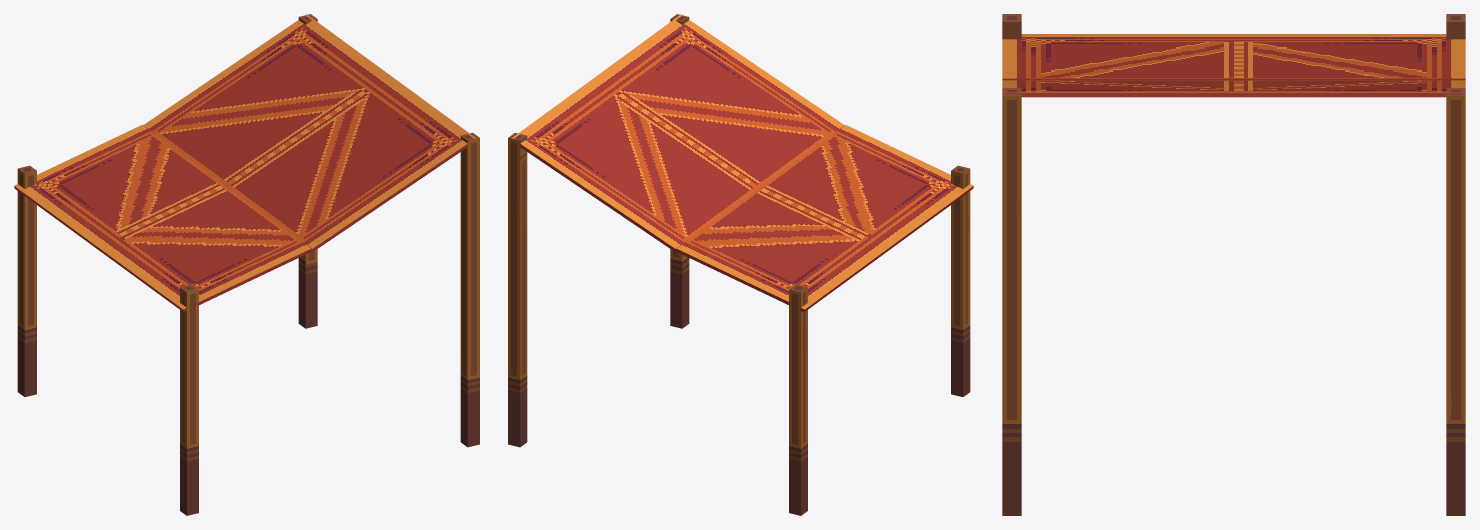
The model's file is hautvent.gltf.
3 renders of one model, left to right at view 1: azimuth 30°, elevation 25°; view 2: azimuth 150°, elevation 25°; view 3: azimuth 270°, elevation 25°, orthographic. The views are drawn at different scales.
Visible parts, largest first — view 1: cube (×6); view 2: cube (×6); view 3: cube (×4).
Part boxes in pixels (x1,y1,x2,y2): cube (×6): (14, 14, 479, 515); cube (×6): (508, 14, 973, 515); cube (×4): (1002, 34, 1465, 515).
Size of the model in its own units: 6.08 by 6.01 by 6.
Materials: 1 (1 with a texture image).
